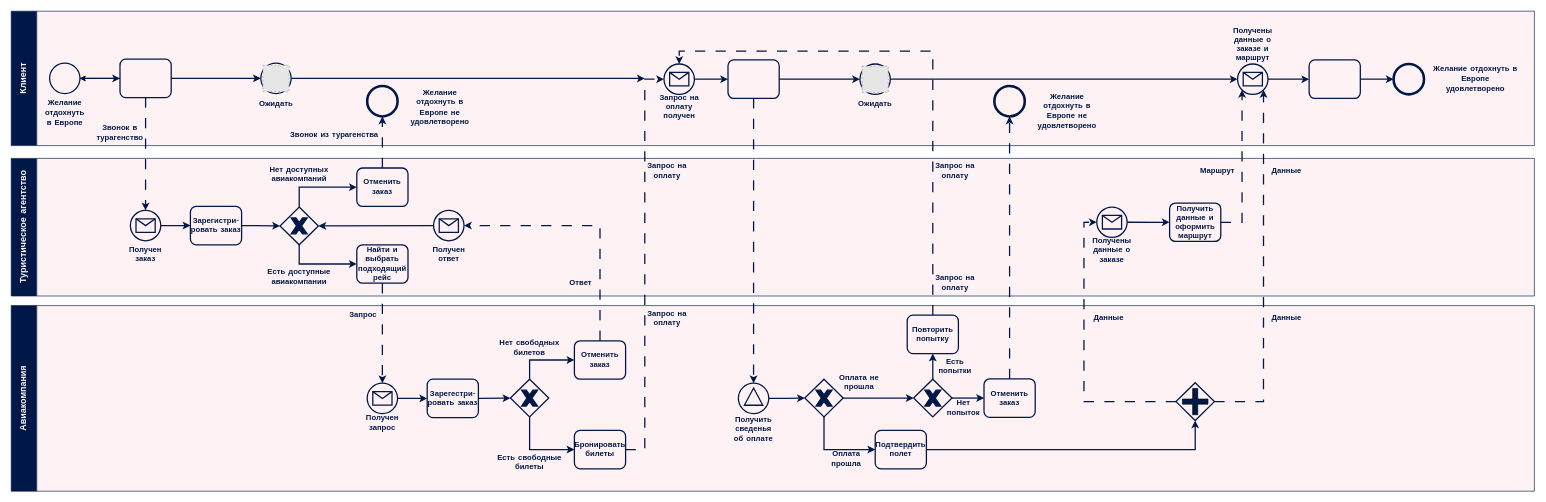
This 1546x502 diagram has some shape labels left out. Grey dashed boxes stand in for pictures. The centre of each missing label's shape, as x and y in pixels:
Выбрать страну для отдыха и турагенство: point 145,78
Оплатить: point 753,79
Получить билеты и маршрут: point 1334,79
